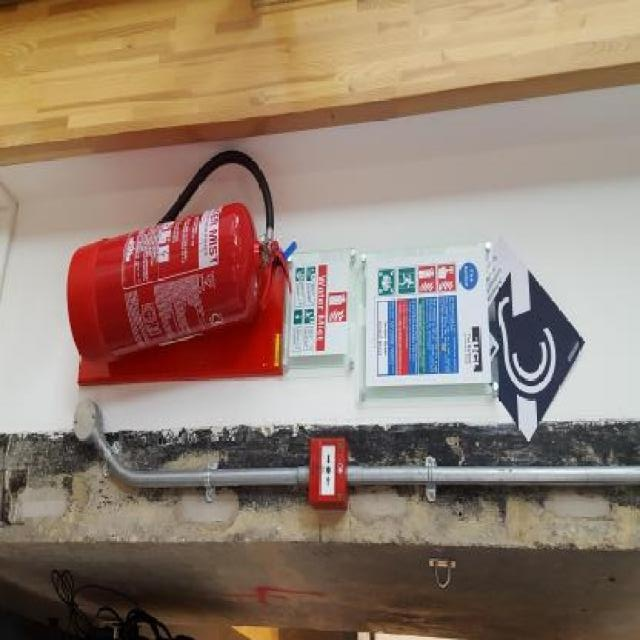fire extinguisher: (68, 148, 289, 365)
